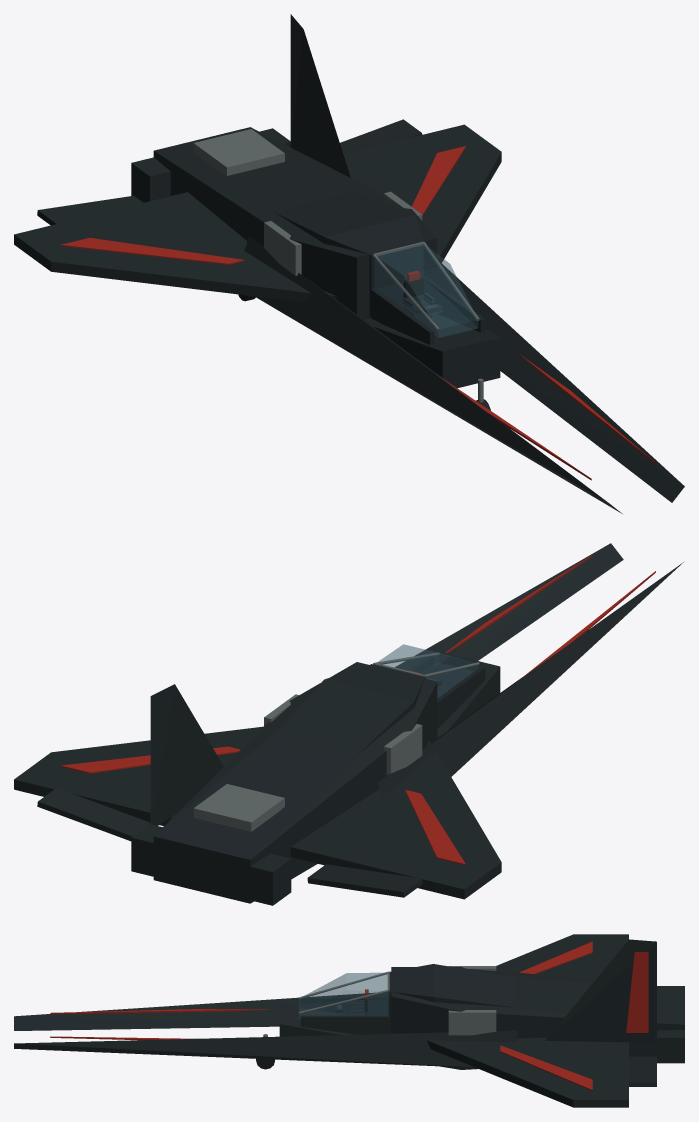
3 views of the same model, one above another, from view 1: azimuth 30°, elevation 25°; view 2: azimuth 150°, elevation 25°; view 3: azimuth 270°, elevation 25° (orthographic). The views are drawn at different scales.
Parts seen in each view (by area): view 1: mothership-fighter-painted, mothership-canopy-glazing, breakaway-fighter-fin-1-painted, flap-left-painted, flap-right-painted, crew-chair-pilot-painted, mothership-canopy-painted; view 2: mothership-fighter-painted, breakaway-fighter-fin-1-painted, flap-right-painted, flap-left-painted, mothership-canopy-glazing, mothership-canopy-painted; view 3: mothership-fighter-painted, breakaway-fighter-fin-1-painted, mothership-canopy-glazing, flap-right-painted, mothership-canopy-painted, crew-chair-pilot-painted.
Part boxes in pixels (bbox=[...]): mothership-fighter-painted: bbox=[14, 124, 684, 513]; mothership-canopy-glazing: bbox=[374, 244, 478, 337]; breakaway-fighter-fin-1-painted: bbox=[290, 14, 350, 177]; flap-left-painted: bbox=[37, 195, 143, 225]; flap-right-painted: bbox=[340, 119, 422, 153]; crew-chair-pilot-painted: bbox=[403, 270, 442, 317]; mothership-canopy-painted: bbox=[373, 242, 479, 330]; mothership-fighter-painted: bbox=[14, 543, 683, 905]; breakaway-fighter-fin-1-painted: bbox=[150, 684, 223, 825]; flap-right-painted: bbox=[37, 788, 150, 841]; flap-left-painted: bbox=[307, 864, 422, 897]; mothership-canopy-glazing: bbox=[377, 644, 478, 698]; mothership-canopy-painted: bbox=[373, 652, 479, 677]; mothership-fighter-painted: bbox=[14, 934, 684, 1107]; breakaway-fighter-fin-1-painted: bbox=[545, 939, 656, 1042]; mothership-canopy-glazing: bbox=[299, 972, 388, 1018]; flap-right-painted: bbox=[629, 1056, 656, 1086]; mothership-canopy-painted: bbox=[299, 971, 389, 1014]; crew-chair-pilot-painted: bbox=[335, 989, 368, 1015].
Bounding box in the file's own units: 73.68 × 31.58 × 126.
